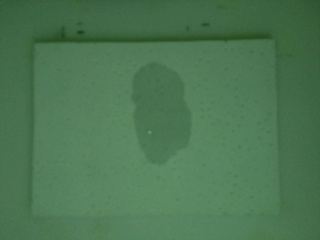Water_detected: (135, 81, 191, 160)
